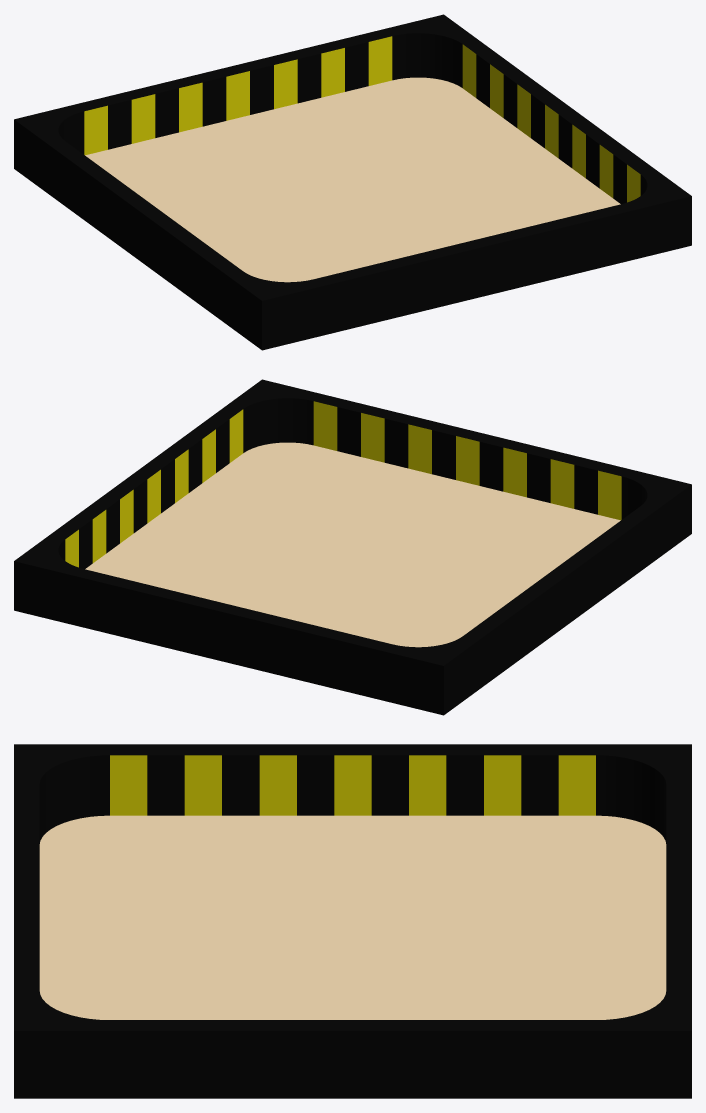
Rendered from arena_1.glb.
3 renders of one model, top to bottom at view 1: azimuth 30°, elevation 25°; view 2: azimuth 150°, elevation 25°; view 3: azimuth 270°, elevation 25°, orthographic. The views are drawn at different scales.
Visible parts, largest first — view 1: Cube; view 2: Cube; view 3: Cube.
Boxes of the visible parts, x1=… form: Cube: x1=14, y1=14, x2=691, y2=350; Cube: x1=14, y1=379, x2=691, y2=715; Cube: x1=14, y1=744, x2=691, y2=1098.
Size of what is drawn, in the model's own units: 200 by 22 by 200.
